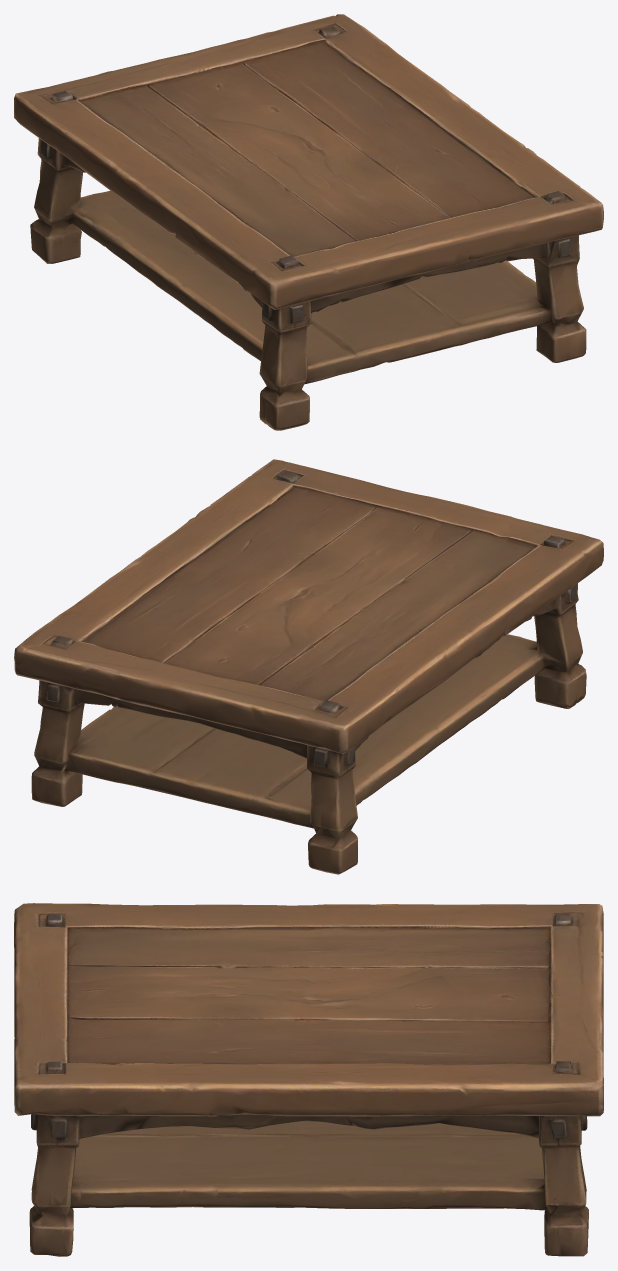
File: mesa_ratona.glb
3 views of the same model, one above another, from view 1: azimuth 30°, elevation 25°; view 2: azimuth 150°, elevation 25°; view 3: azimuth 270°, elevation 25° (orthographic). The views are drawn at different scales.
Visible parts, largest first — view 1: tripo_node_eb0fbca8-fef7-4b3a-aa3c-a3f2d0ed6ac0; view 2: tripo_node_eb0fbca8-fef7-4b3a-aa3c-a3f2d0ed6ac0; view 3: tripo_node_eb0fbca8-fef7-4b3a-aa3c-a3f2d0ed6ac0.
Boxes of the visible parts, x1=… form: tripo_node_eb0fbca8-fef7-4b3a-aa3c-a3f2d0ed6ac0: x1=14, y1=14, x2=603, y2=430; tripo_node_eb0fbca8-fef7-4b3a-aa3c-a3f2d0ed6ac0: x1=14, y1=459, x2=603, y2=874; tripo_node_eb0fbca8-fef7-4b3a-aa3c-a3f2d0ed6ac0: x1=14, y1=903, x2=603, y2=1256.
Bounding box in the file's own units: 0.7388 × 0.3388 × 1.
Materials: 1 (1 with a texture image).
